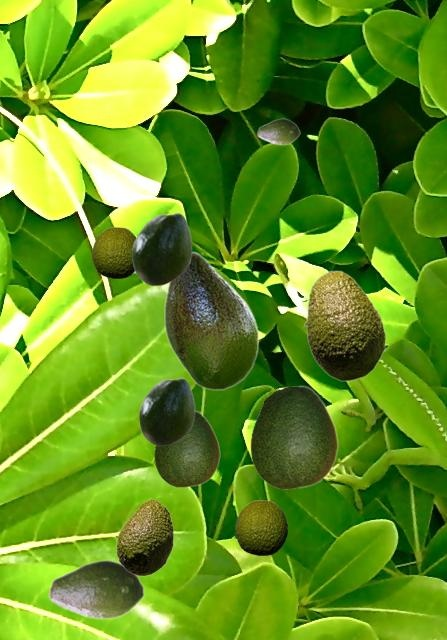avocado: (164, 251, 258, 389), (303, 270, 385, 380), (250, 385, 337, 488), (48, 559, 144, 619), (154, 410, 219, 486), (131, 212, 191, 285), (116, 499, 172, 575), (138, 377, 194, 445), (235, 500, 286, 554), (92, 227, 135, 277), (257, 118, 299, 144)
